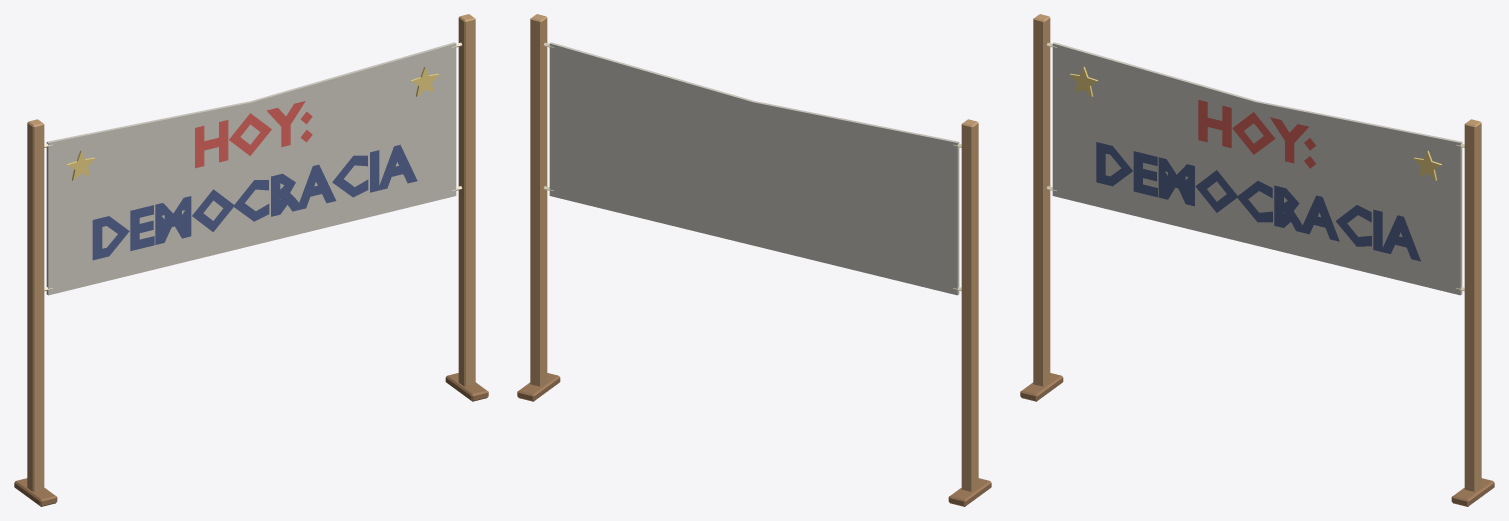
File: env_hall_sign_01.glb
3 views of the same model, side by side, from view 1: azimuth 30°, elevation 25°; view 2: azimuth 150°, elevation 25°; view 3: azimuth 330°, elevation 25° (orthographic).
Visible parts, largest first — view 1: env_hall_sign_01_body; view 2: env_hall_sign_01_body; view 3: env_hall_sign_01_body.
Boxes of the visible parts, x1,y1,x2,y2 form: env_hall_sign_01_body: (14, 14, 488, 506); env_hall_sign_01_body: (517, 14, 991, 506); env_hall_sign_01_body: (1020, 14, 1494, 506).
Bounding box in the file's own units: 3.08 × 2.45 × 0.32.
